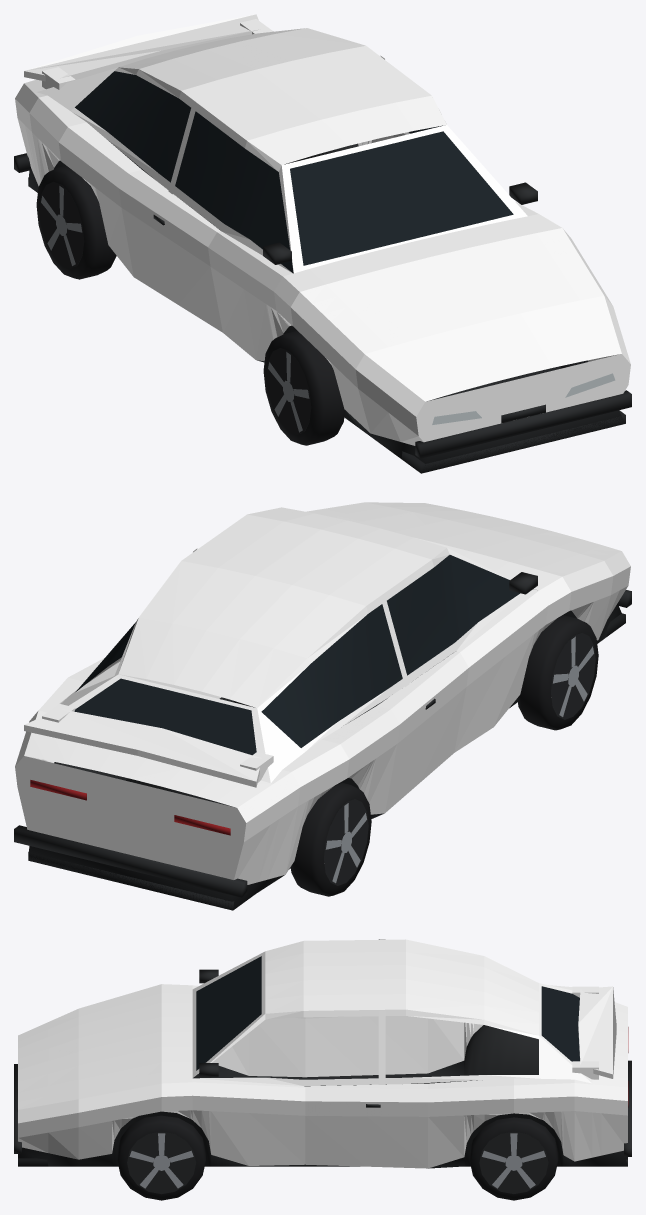
The model's file is kanaya_kestrel.glb.
The picture shows the model from 3 angles, top to bottom: view 1: azimuth 30°, elevation 25°; view 2: azimuth 150°, elevation 25°; view 3: azimuth 270°, elevation 25°; orthographic projection. The views are drawn at different scales.
Parts seen in each view (by area): view 1: Body_Paint, Body_Details, Mount_FrontLeft_Wheel_Details, Mount_RearLeft_Wheel_Details; view 2: Body_Paint, Body_Details, Mount_FrontLeft_Wheel_Details, Mount_RearLeft_Wheel_Details; view 3: Body_Paint, Body_Details, Mount_FrontRight_Wheel_Details, Mount_RearRight_Wheel_Details.
Boxes of the visible parts, x1,y1,x2,y2 form: Body_Paint: [15, 14, 630, 445]; Body_Details: [14, 71, 631, 473]; Mount_FrontLeft_Wheel_Details: [263, 331, 345, 445]; Mount_RearLeft_Wheel_Details: [36, 165, 116, 279]; Body_Paint: [15, 502, 630, 884]; Body_Details: [14, 555, 631, 910]; Mount_FrontLeft_Wheel_Details: [517, 615, 598, 730]; Mount_RearLeft_Wheel_Details: [290, 783, 371, 896]; Body_Paint: [18, 939, 627, 1168]; Body_Details: [14, 956, 631, 1168]; Mount_FrontRight_Wheel_Details: [117, 1115, 205, 1200]; Mount_RearRight_Wheel_Details: [469, 1117, 558, 1200].
Size of the model in its own units: 1.76 by 1.32 by 4.18.
2 materials, 1 textured.
